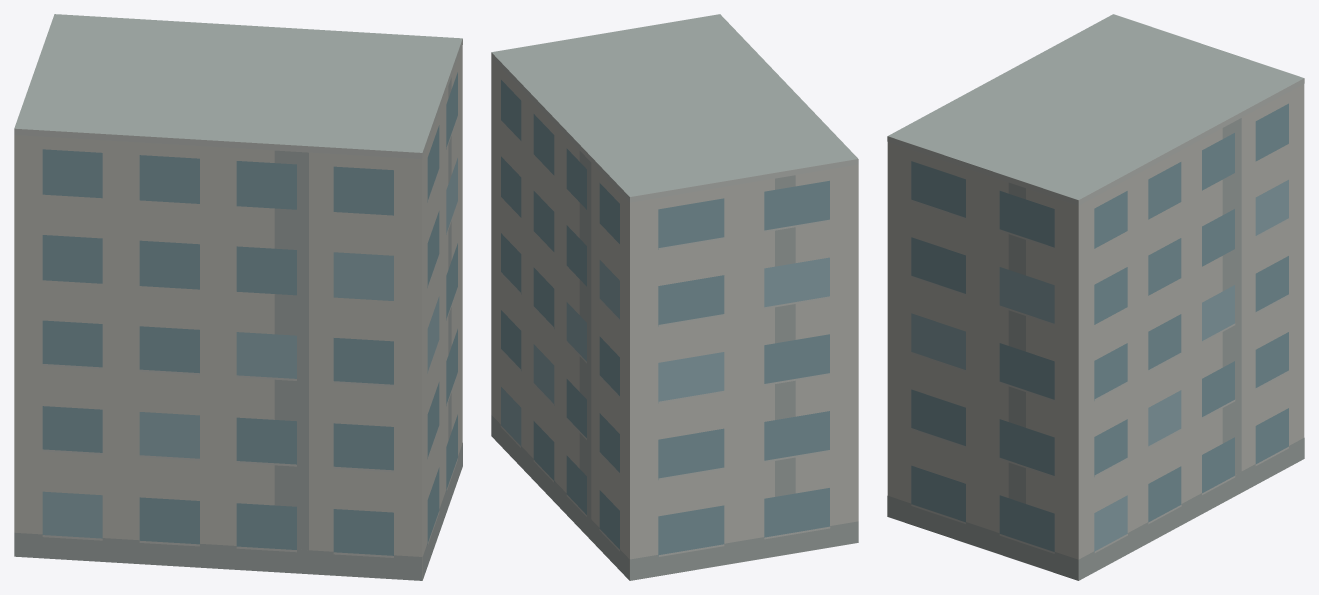
Rendered from survey-upis-32913310.glb.
The picture shows the model from 3 angles, left to right: view 1: azimuth 30°, elevation 25°; view 2: azimuth 150°, elevation 25°; view 3: azimuth 270°, elevation 25°; orthographic projection. The views are drawn at different scales.
Visible parts, largest first — view 1: survey-upis-32913310.tmp; view 2: survey-upis-32913310.tmp; view 3: survey-upis-32913310.tmp.
Part boxes in pixels (x1,y1,x2,y2): survey-upis-32913310.tmp: (14, 14, 462, 580); survey-upis-32913310.tmp: (491, 14, 858, 580); survey-upis-32913310.tmp: (887, 14, 1304, 580).
Size of the model in its own units: 17.16 by 16.35 by 16.24.
